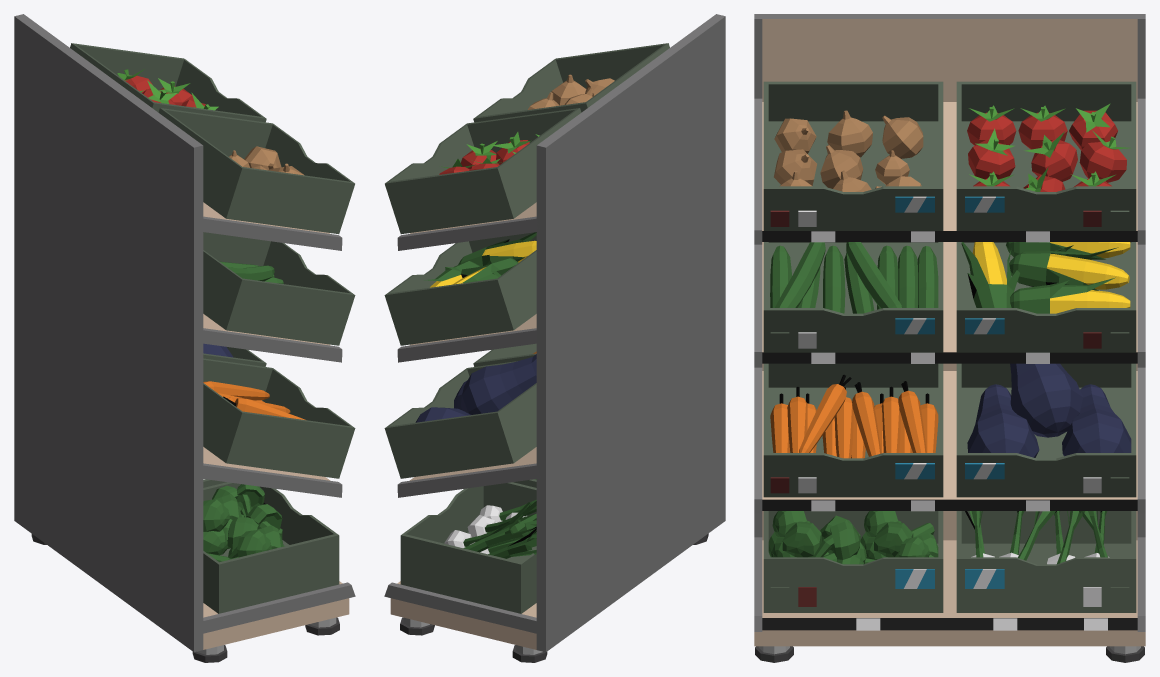
File: SM_fruitShelveBox_02.glb
The picture shows the model from 3 angles, left to right: view 1: azimuth 30°, elevation 25°; view 2: azimuth 150°, elevation 25°; view 3: azimuth 270°, elevation 25°; orthographic projection. The views are drawn at different scales.
Parts seen in each view (by area): view 1: SM_fruitShelveBox_02; view 2: SM_fruitShelveBox_02; view 3: SM_fruitShelveBox_02.
Boxes of the visible parts, <box> form: SM_fruitShelveBox_02: <box>14,14,355,662</box>; SM_fruitShelveBox_02: <box>384,14,725,662</box>; SM_fruitShelveBox_02: <box>754,14,1145,662</box>.
Size of the model in its own units: 0.533 by 1.6 by 1.
Materials: 1 (1 with a texture image).
